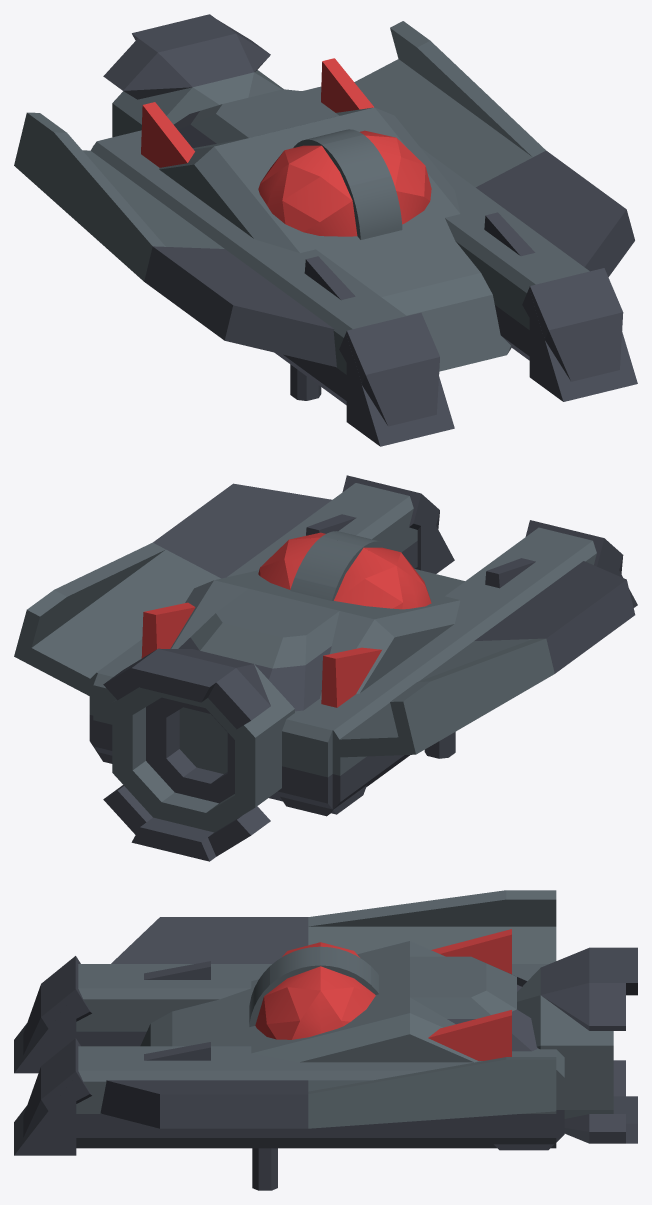
The model's file is Helminth.fbx.
The picture shows the model from 3 angles, top to bottom: view 1: azimuth 30°, elevation 25°; view 2: azimuth 150°, elevation 25°; view 3: azimuth 270°, elevation 25°; orthographic projection. The views are drawn at different scales.
Visible parts, largest first — view 1: hull_body; view 2: hull_body; view 3: hull_body.
Part boxes in pixels (x1,y1,x2,y2): hull_body: (14, 14, 637, 446); hull_body: (14, 475, 637, 861); hull_body: (14, 890, 637, 1190).
Bounding box in the file's own units: 491 × 247 × 702.
